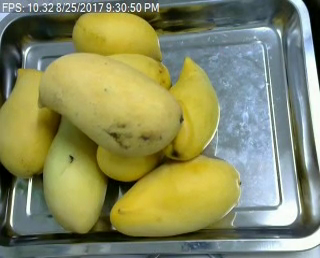Mango: (38, 52, 183, 155), (111, 157, 243, 239), (44, 108, 106, 232), (0, 68, 60, 175), (166, 56, 219, 160), (73, 9, 163, 63), (96, 138, 164, 181)
